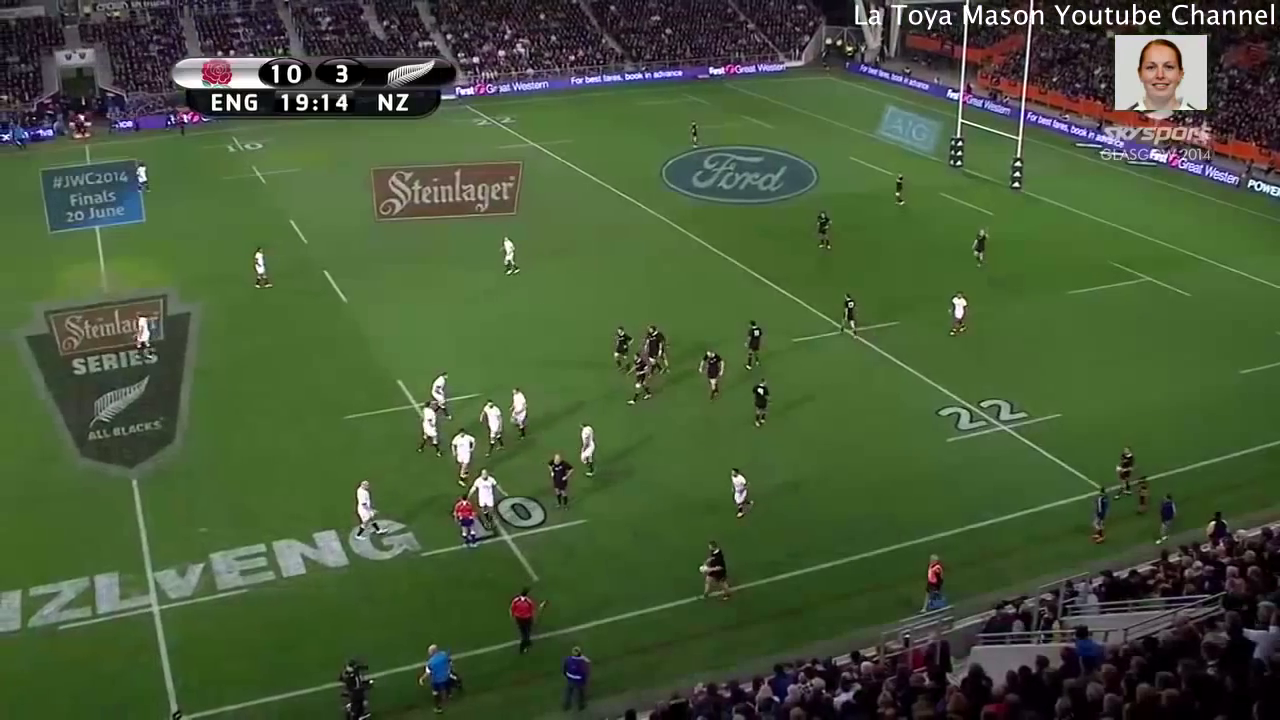10_metre: (413, 484, 601, 592), (341, 374, 481, 441), (195, 127, 289, 157), (217, 161, 308, 187)
player: (465, 463, 509, 530), (542, 448, 579, 518), (351, 476, 390, 542), (448, 490, 485, 556), (444, 422, 478, 493), (695, 343, 732, 404), (623, 349, 657, 411), (474, 396, 508, 457), (745, 372, 778, 433), (412, 396, 445, 457), (726, 464, 761, 521), (943, 288, 979, 343), (641, 323, 672, 385), (504, 381, 536, 441), (574, 418, 604, 479), (833, 284, 861, 342), (429, 362, 455, 424), (608, 323, 637, 378), (247, 240, 277, 292), (128, 311, 157, 362), (739, 319, 765, 371), (498, 232, 525, 280), (128, 153, 155, 198), (969, 223, 993, 268), (812, 205, 835, 251), (890, 170, 908, 205), (685, 116, 702, 152)
post: (942, 1, 1040, 196)
